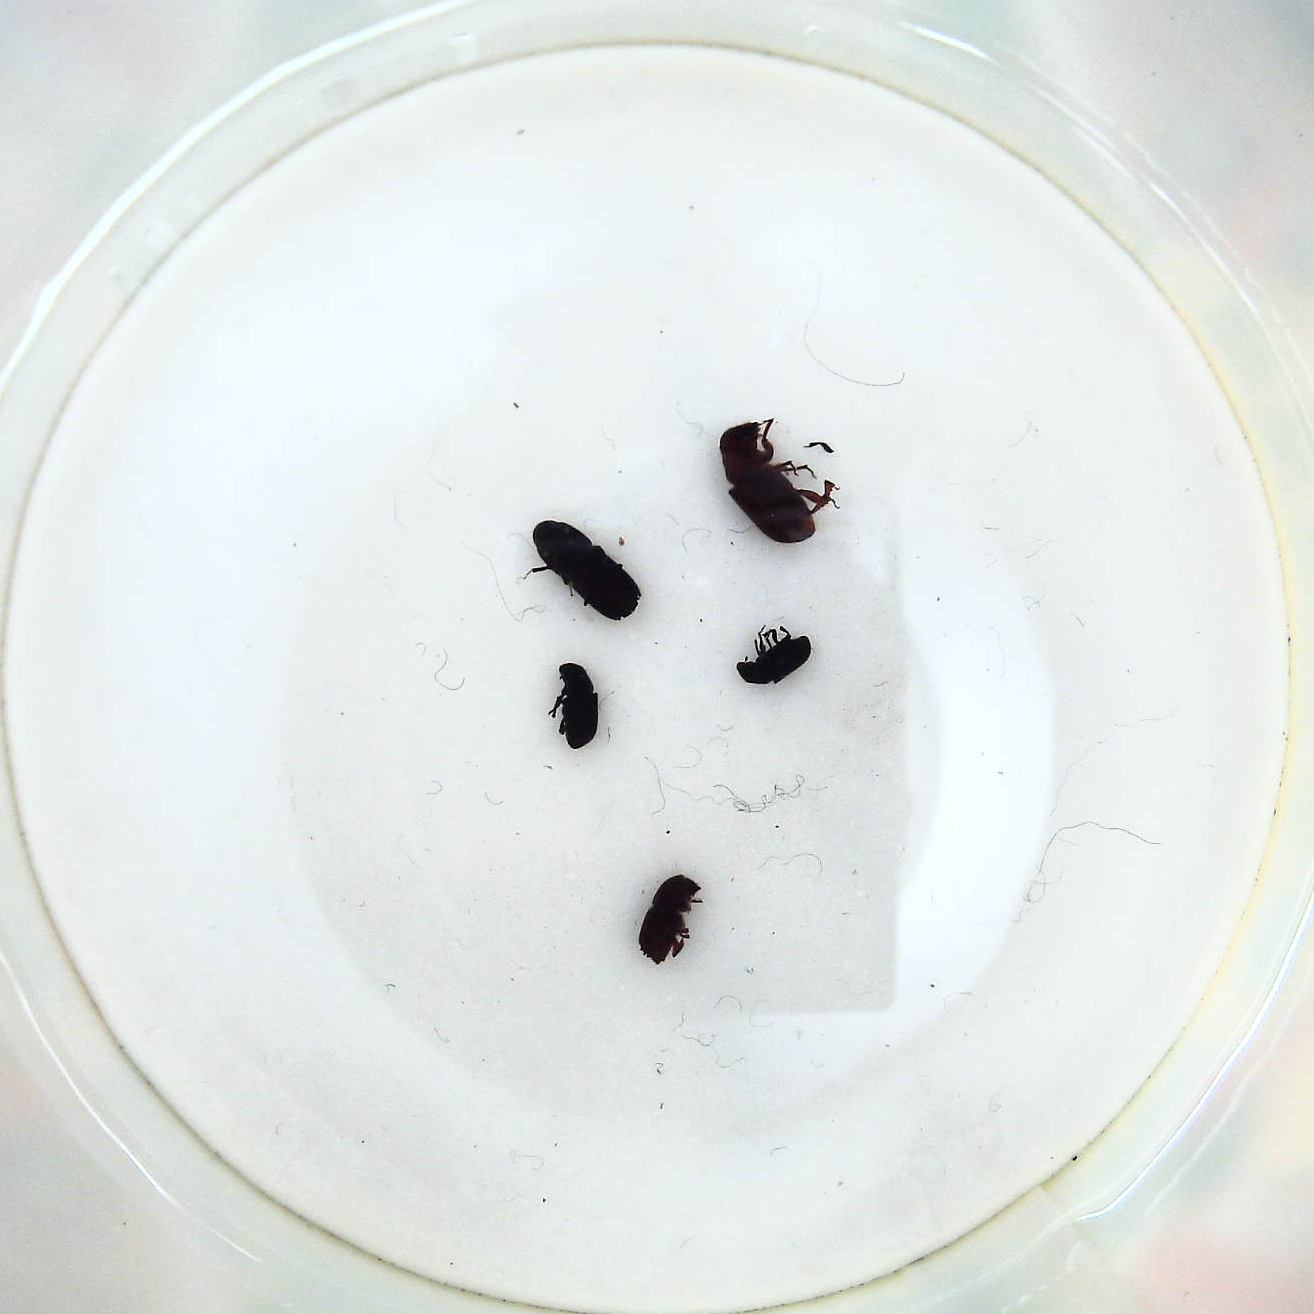Boerner: (528, 511, 640, 626)
Leconte: (718, 416, 840, 547)
armandi: (547, 655, 606, 753)
coleoptera: (735, 621, 823, 689)
linnaeus: (640, 870, 706, 972)
